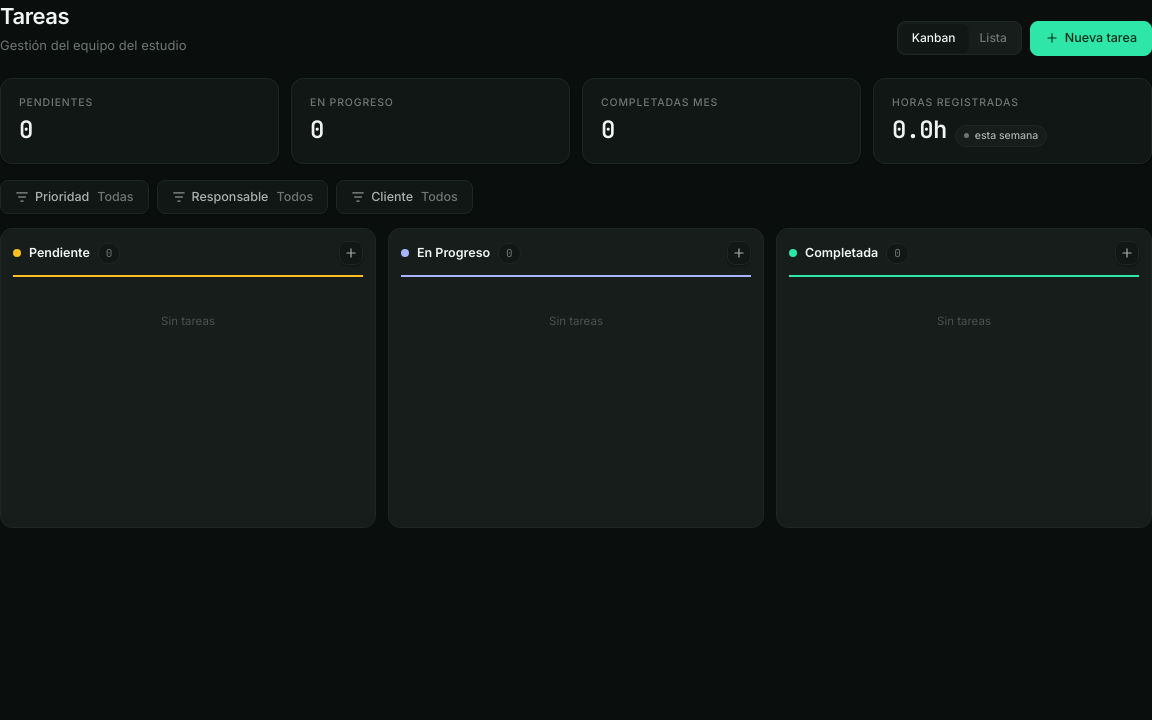
Test: TareasPage › renders Nueva tarea button that opens modal
Click the button "Nueva tarea".
click(1091, 38)  # box top-left (1030, 21), bottom-right (1151, 56)
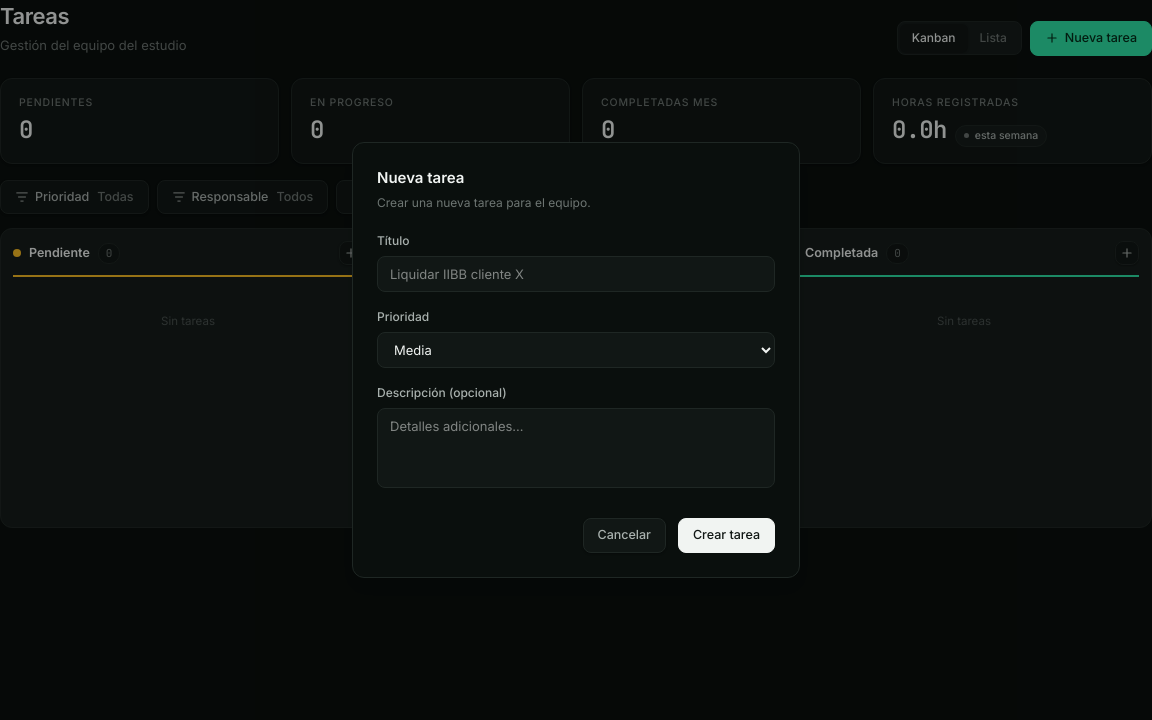
Check: the text "Crear una nueva tarea para el equipo." is shown, box top-left (377, 195), bottom-right (591, 210)
